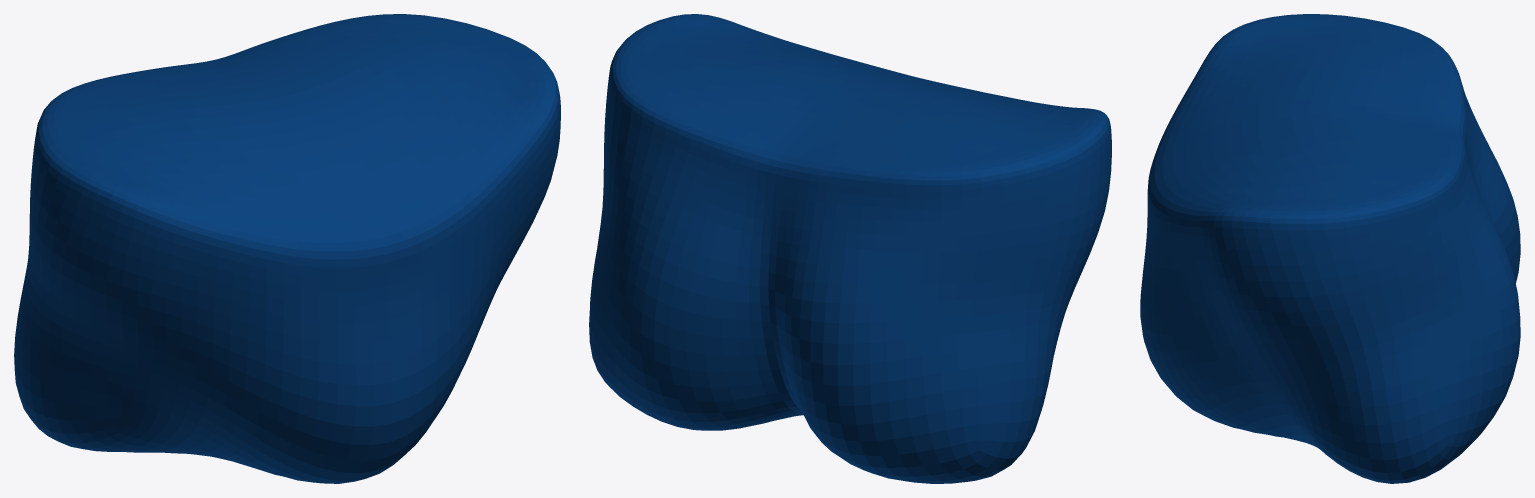
File: Waist.fbx
The picture shows the model from 3 angles, left to right: view 1: azimuth 30°, elevation 25°; view 2: azimuth 150°, elevation 25°; view 3: azimuth 270°, elevation 25°; orthographic projection. The views are drawn at different scales.
Visible parts, largest first — view 1: Waist; view 2: Waist; view 3: Waist.
Boxes of the visible parts, left/top/right/bottom form: Waist: left=14, top=14, right=560, bottom=483; Waist: left=589, top=14, right=1111, bottom=483; Waist: left=1140, top=14, right=1520, bottom=483.
Bounding box in the file's own units: 0.3166 × 0.217 × 0.24.
